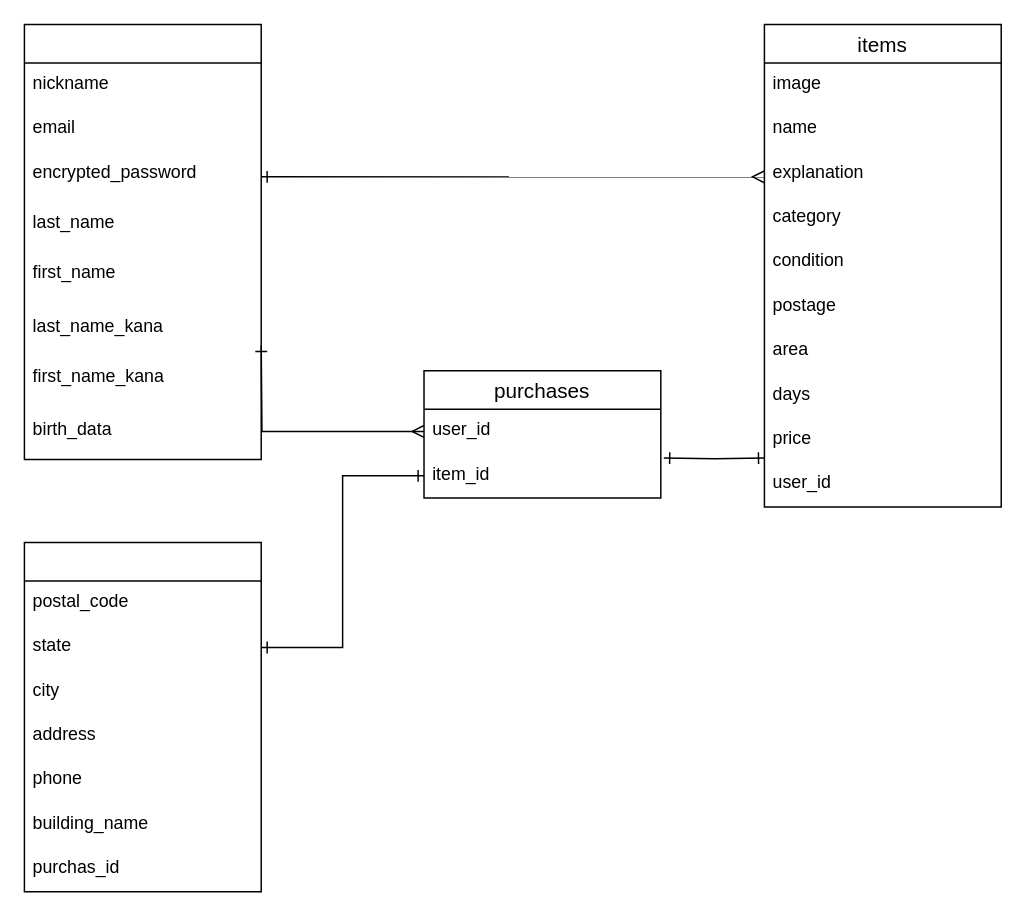
This 1026x916 diagram has some shape labels left out. The shapes that lost their labels are listed below. From the top down, each one's box as (x1, y1, x2, y2) in pixels, then its label:
(23, 23, 261, 460): users
(23, 541, 261, 892): addresses
